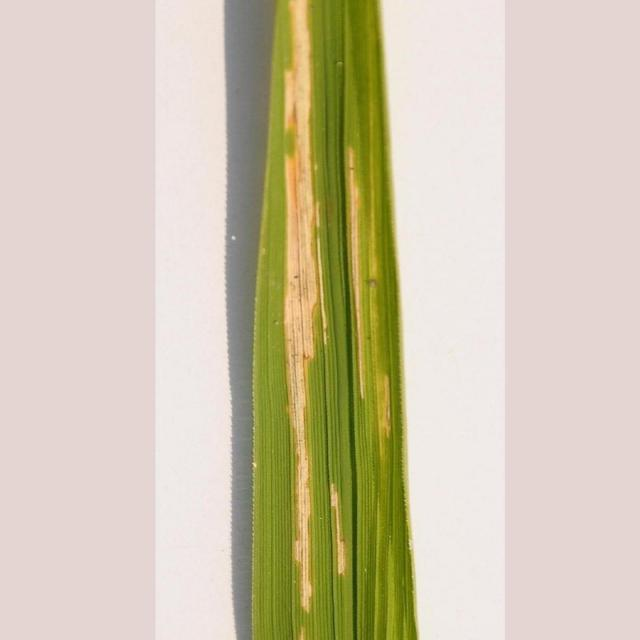leaf blight: (262, 2, 385, 640)
